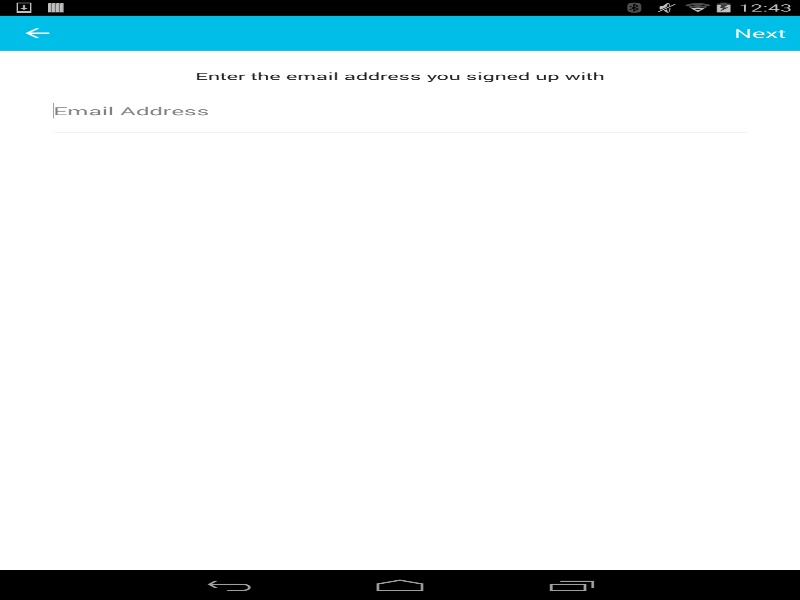Input: (53, 89, 712, 132)
